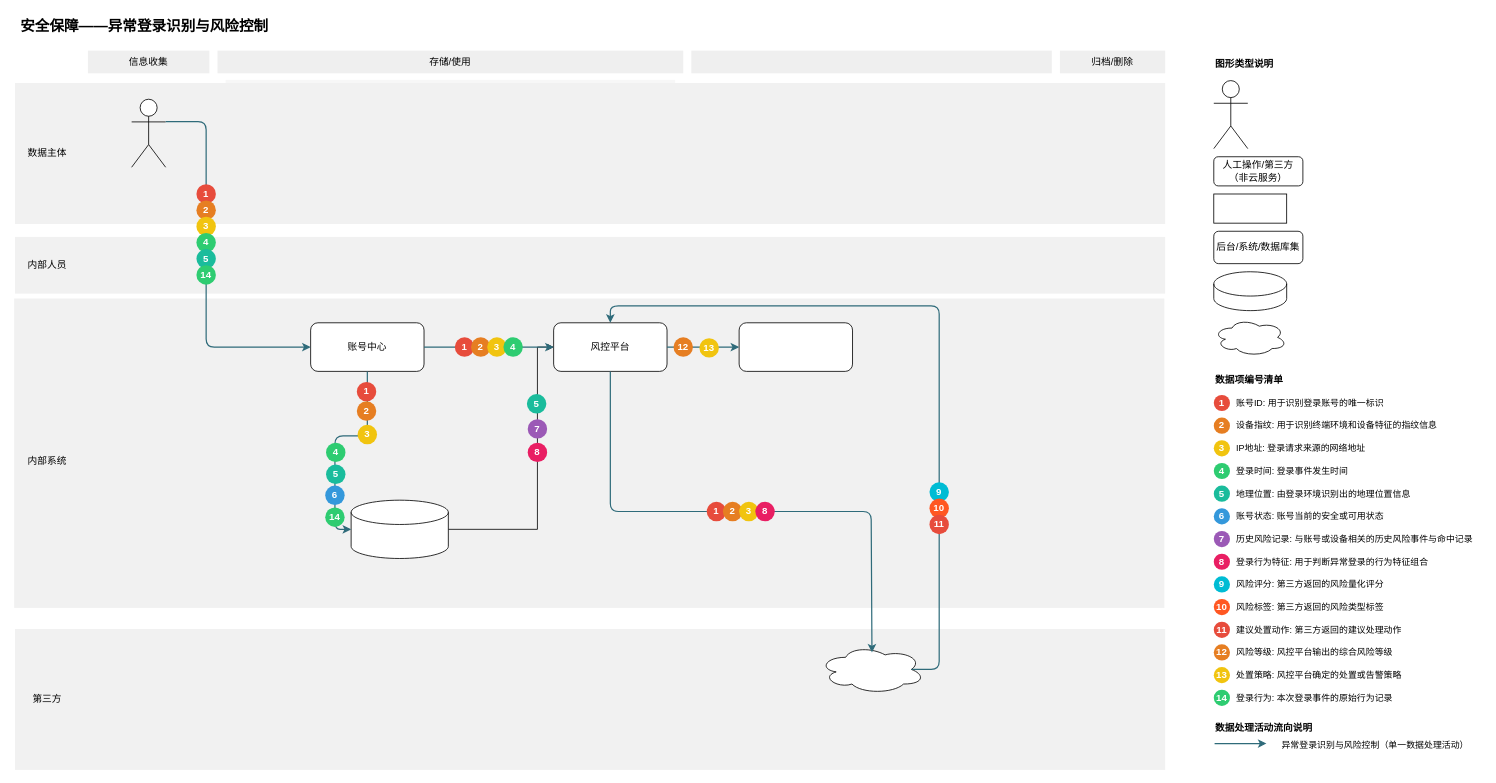
This 1496x783 diagram has some shape labels left out. Here are the shapes that lost their labels. From the top down, the centre of each, then its label:
At point (871, 61): "分享/传输".
At point (148, 132): "用户".
At point (1230, 114): "数据主体（用户）".
At point (1250, 208): "界面/功能名称".
At point (1250, 291): "文档/存储".
At point (795, 346): "告警系统".
At point (1250, 337): "第三方云服务".
At point (399, 528): "日志平台".
At point (872, 669): "天盾风控".
